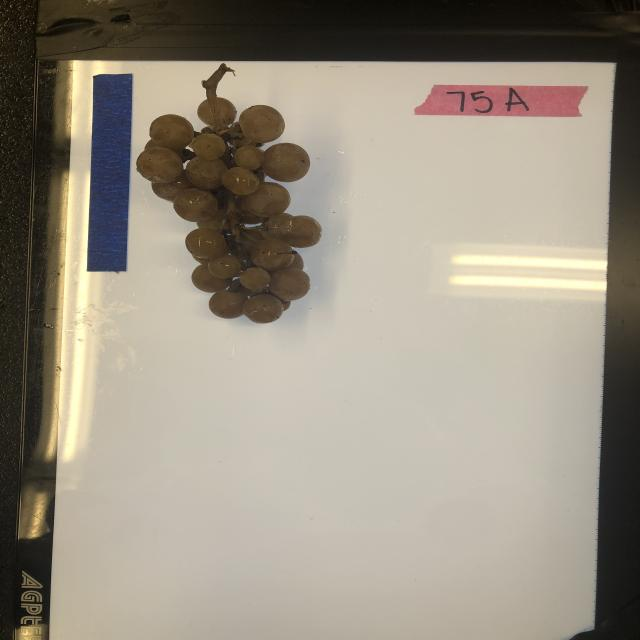grape_cluster: (138, 61, 324, 325)
index: (412, 83, 591, 119)
measure_label: (88, 72, 135, 273)
